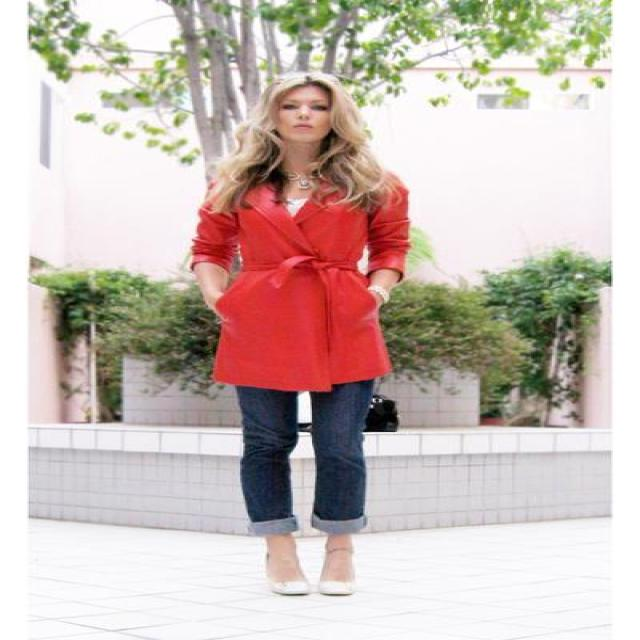jacket: (190, 186, 410, 396)
pants: (235, 379, 382, 549)
shoe: (264, 576, 346, 610)
